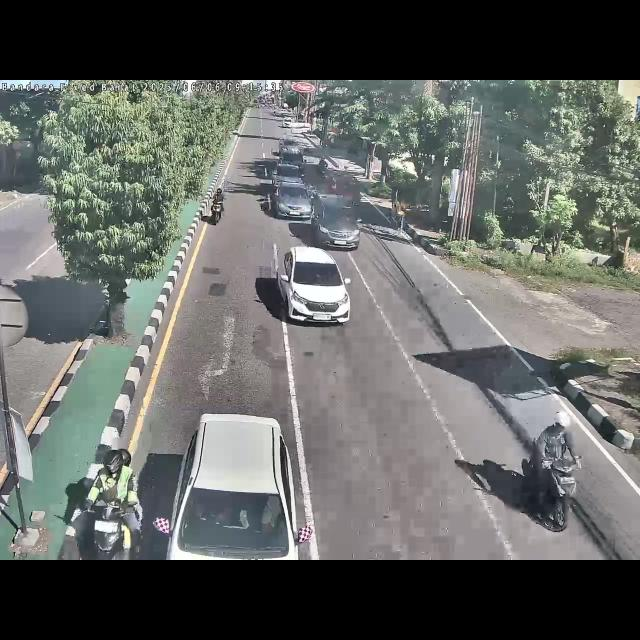Mobil: (160, 410, 306, 560), (274, 245, 356, 328), (312, 190, 364, 252), (273, 178, 317, 222)
Motor: (517, 406, 587, 530), (80, 446, 152, 560), (208, 183, 228, 227)
